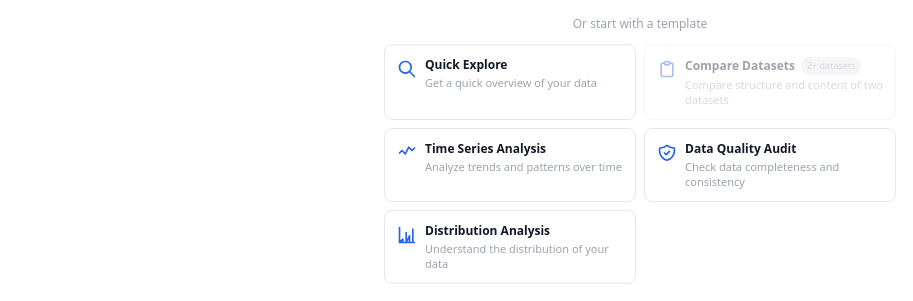
Scenario: ConversationTemplates — clicking a template shows prompts › returns to template grid when back button is clicked
Select a template
What coordinates should you click on to do the following:
click the button with test id "conversation-template-quick-explore"
I would click on:
 (510, 82)
Its box is [384,44,636,120].
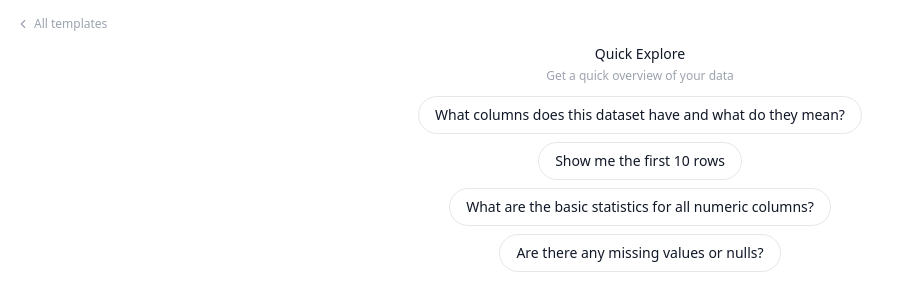
Expected: the 1st button with test id "template-prompt-chip" is shown, [418,96,862,134]
Click back
What coordinates should you click on to do the following:
click the button with test id "templates-back-btn"
I would click on:
 (62, 24)
Its box is [16,16,107,32].
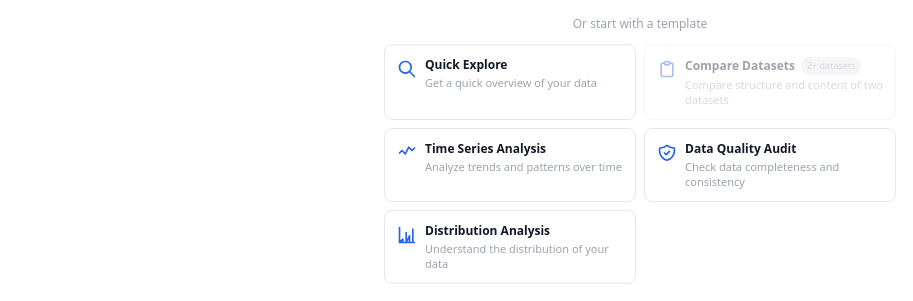
Expected: the button with test id "conversation-template-quick-explore" is shown, [384,44,636,120]
Expected: no buttons with test id "template-prompt-chip" are shown
